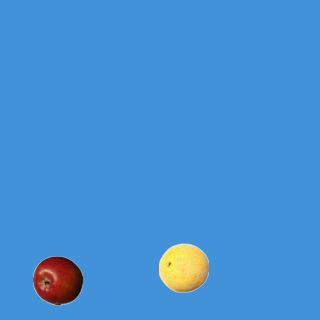Apple Braeburn: (32, 255, 82, 305)
Cantaloupe 1: (158, 242, 208, 292)
